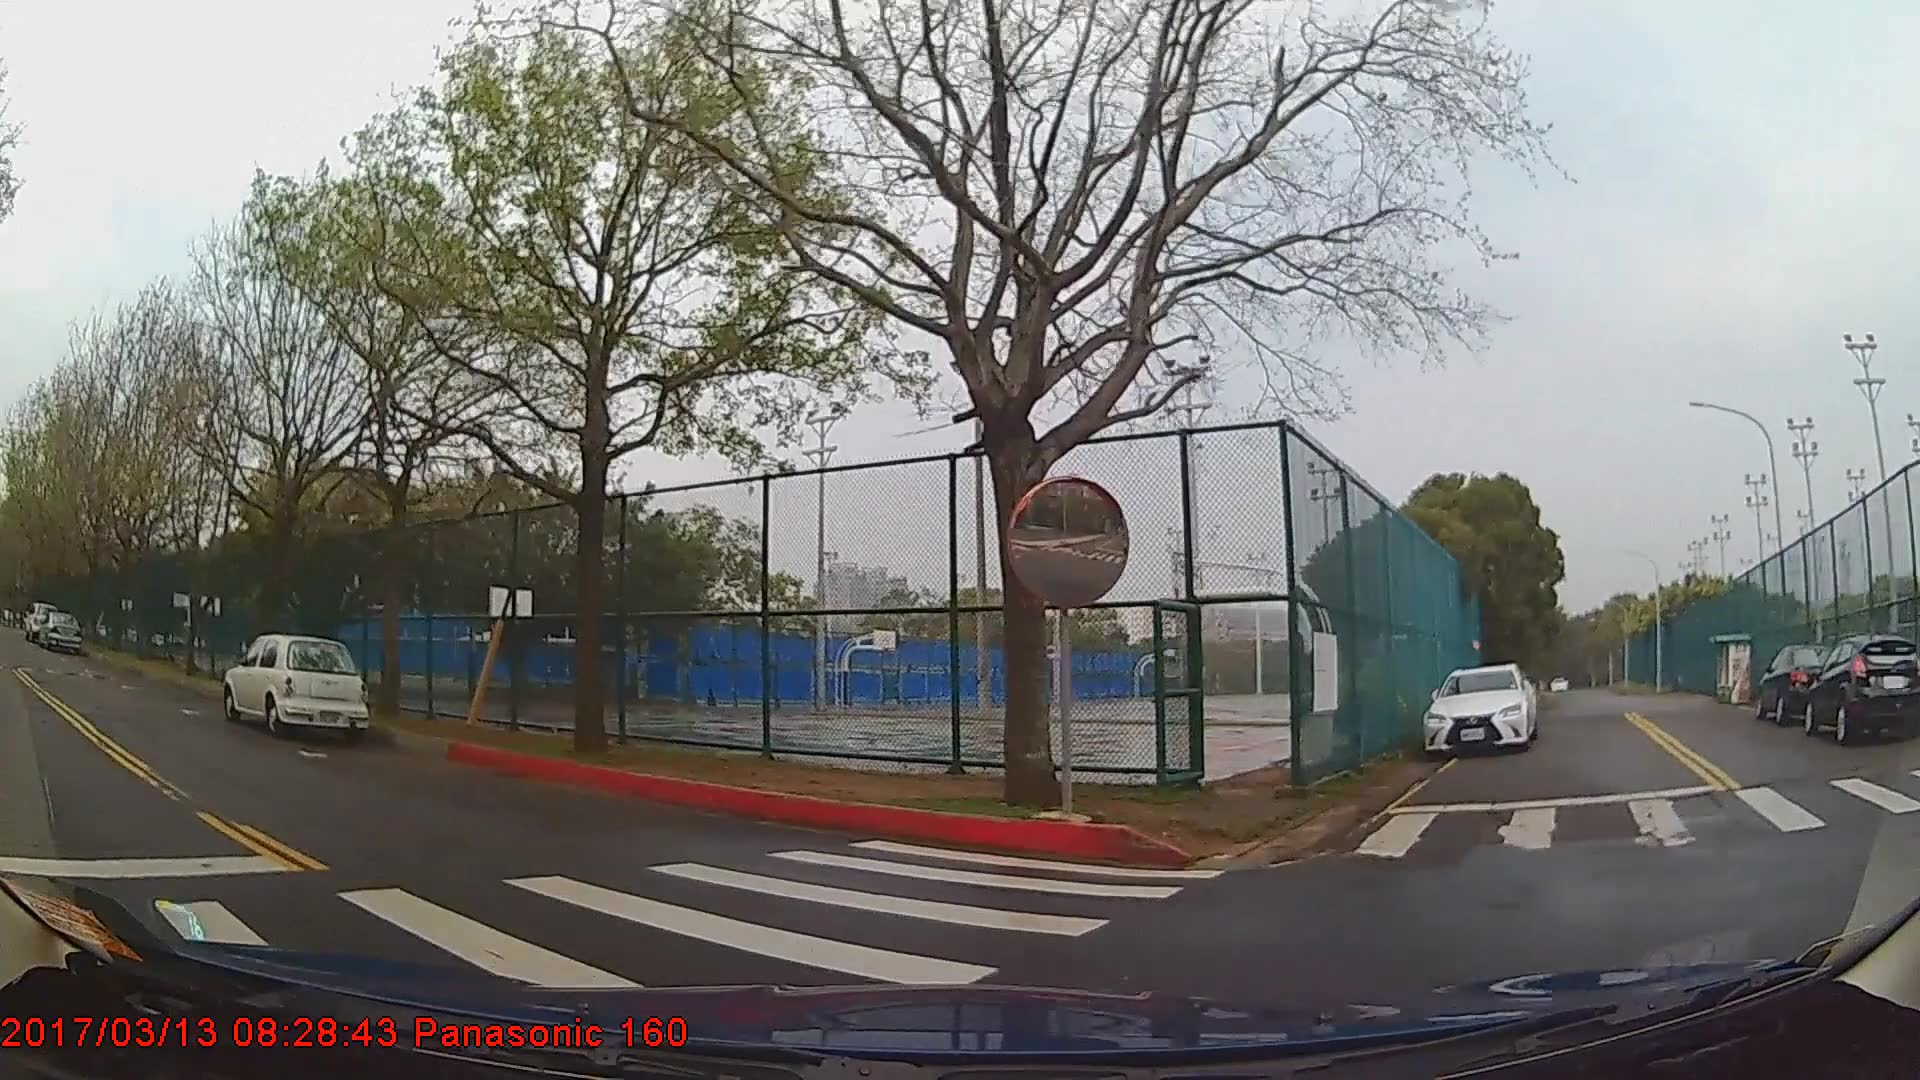vehicle: (219, 630, 371, 732), (1803, 632, 1920, 742), (1420, 661, 1538, 756), (1754, 640, 1850, 721), (36, 611, 83, 653)
